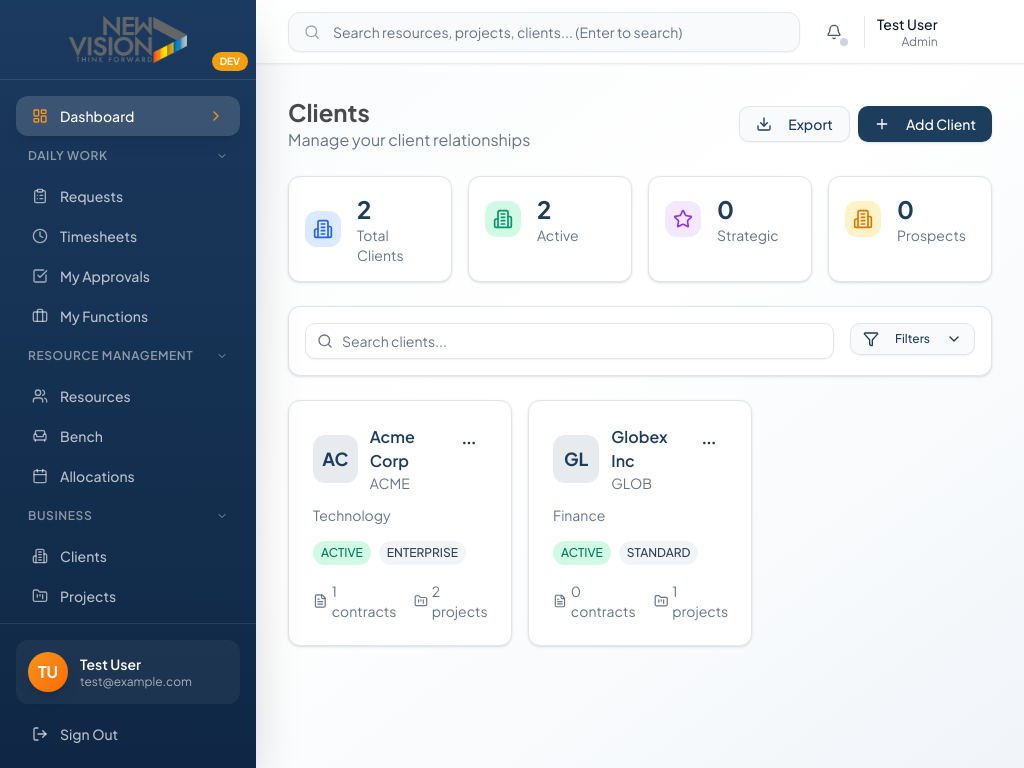
Test: ClientsPage › Add Client Flow › has Cancel and Create buttons in modal
Click the button "Add Client". click: {"x": 925, "y": 124}
box: x1=858 y1=106 x2=992 y2=142
(page scrolled)
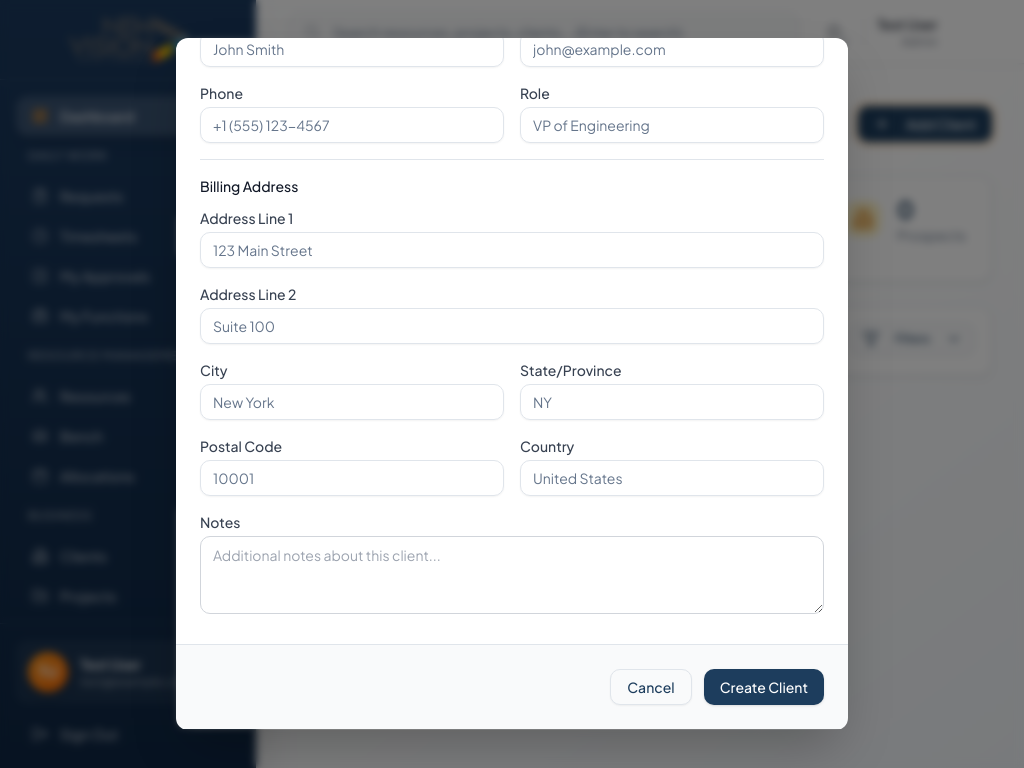
Now the button "Cancel" is shown, box x1=610 y1=669 x2=692 y2=705
Now the button "Create Client" is shown, box x1=704 y1=669 x2=824 y2=705
